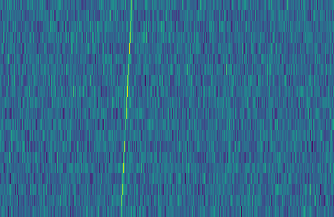signal: (114, 0, 135, 217)
